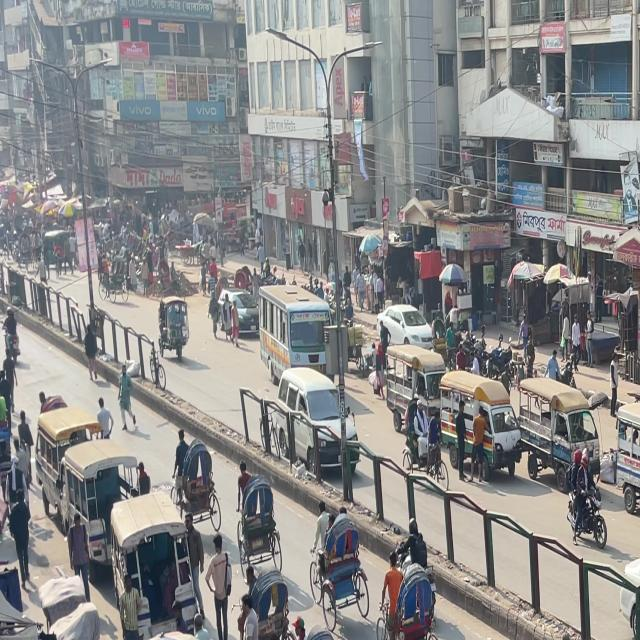bicycle: (409, 453, 451, 499)
car: (626, 530, 640, 640)
motorbike: (557, 466, 614, 556), (386, 516, 446, 596), (398, 514, 435, 575), (555, 348, 583, 394)
van: (96, 490, 206, 640)
